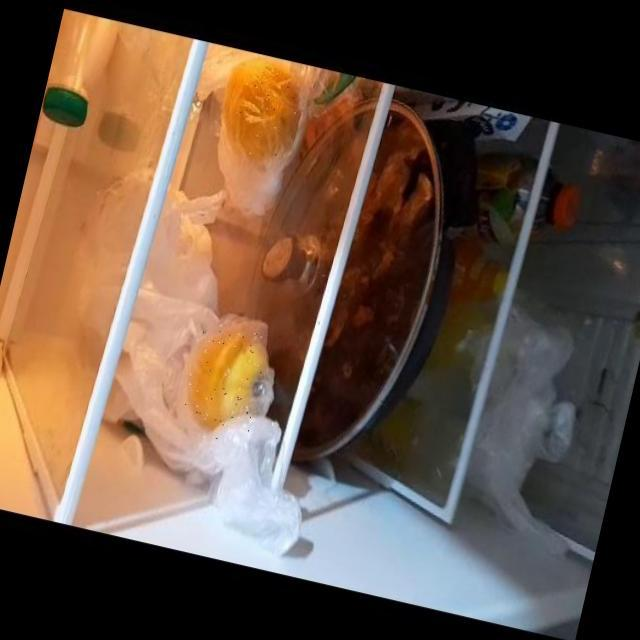Limón: (177, 318, 272, 446), (215, 52, 307, 165)
